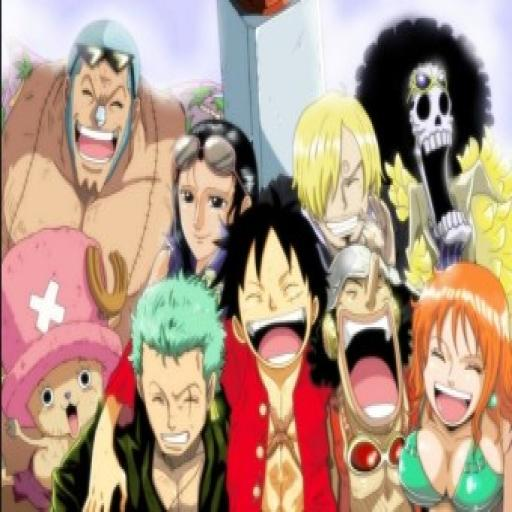Luffy: (228, 196, 328, 372)
Nami: (402, 257, 512, 439)
NicoRobin: (161, 126, 266, 273)
Usopp: (319, 237, 413, 442)
Zoro: (122, 276, 229, 466)
sanji: (292, 90, 385, 256)
